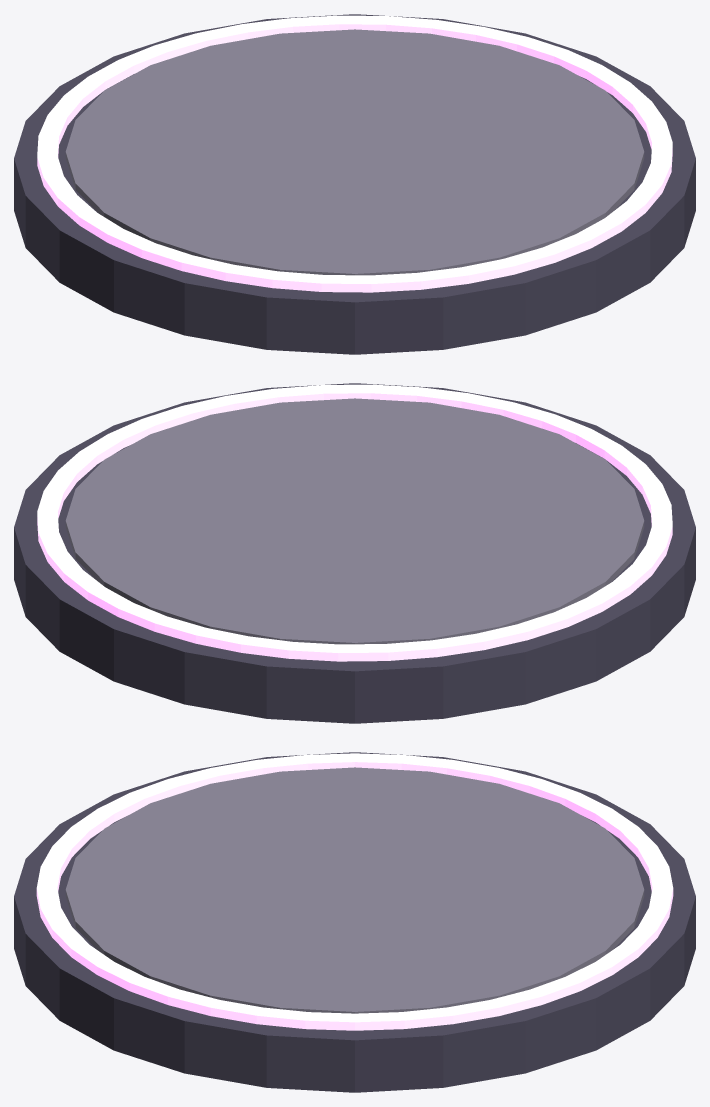
Rendered from pedestal.glb.
3 renders of one model, top to bottom at view 1: azimuth 30°, elevation 25°; view 2: azimuth 150°, elevation 25°; view 3: azimuth 270°, elevation 25°, orthographic.
Visible parts, largest first — view 1: cylinder (×2), LED ring; view 2: cylinder (×2), LED ring; view 3: cylinder (×2), LED ring.
Part boxes in pixels (x1=…): cylinder (×2): x1=14, y1=14, x2=695, y2=354; LED ring: x1=37, y1=15, x2=672, y2=292; cylinder (×2): x1=14, y1=383, x2=695, y2=723; LED ring: x1=37, y1=384, x2=672, y2=661; cylinder (×2): x1=14, y1=752, x2=695, y2=1092; LED ring: x1=36, y1=753, x2=673, y2=1030.
Size of the model in its own units: 3.3 by 0.325 by 3.3.
